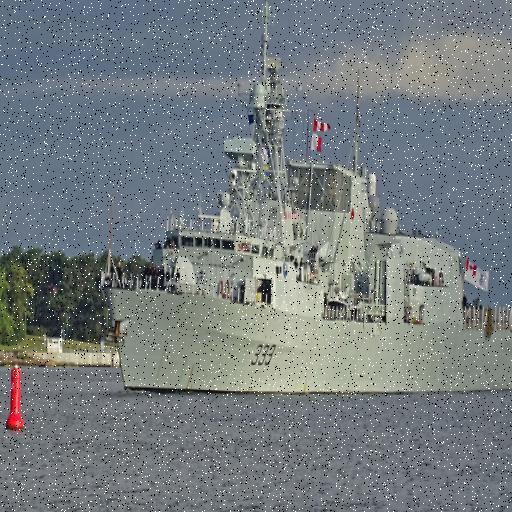Fragata: (97, 1, 512, 404)
